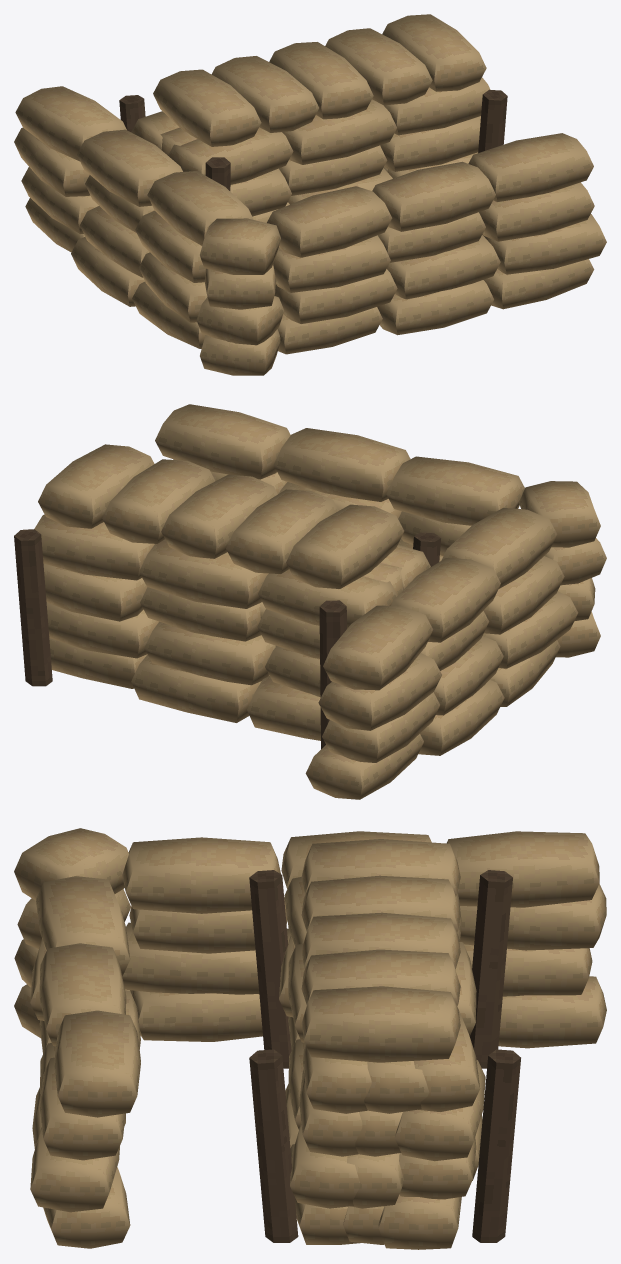
Rendered from Sandbags.fbx.
3 views of the same model, one above another, from view 1: azimuth 30°, elevation 25°; view 2: azimuth 150°, elevation 25°; view 3: azimuth 270°, elevation 25° (orthographic). The views are drawn at different scales.
Visible parts, largest first — view 1: SandbagsCorner, SandbagsStraightWithSupport, SandbagsStraightHigh; view 2: SandbagsStraightWithSupport, SandbagsCorner, SandbagsStraightHigh; view 3: SandbagsCorner, SandbagsStraightWithSupport, SandbagsStraightHigh.
Boxes of the visible parts, left/top/right/bottom form: SandbagsCorner: left=14, top=86, right=606, bottom=375; SandbagsStraightWithSupport: left=119, top=14, right=507, bottom=222; SandbagsStraightHigh: left=160, top=127, right=387, bottom=171; SandbagsStraightWithSupport: left=14, top=444, right=440, bottom=749; SandbagsCorner: left=155, top=404, right=606, bottom=799; SandbagsStraightHigh: left=260, top=563, right=403, bottom=646; SandbagsCorner: left=14, top=828, right=606, bottom=1248; SandbagsStraightWithSupport: left=249, top=839, right=520, bottom=1249; SandbagsStraightHigh: left=343, top=1061, right=429, bottom=1244.
Size of the model in its own units: 262 by 111 by 256.
Materials: 1 (1 with a texture image).
